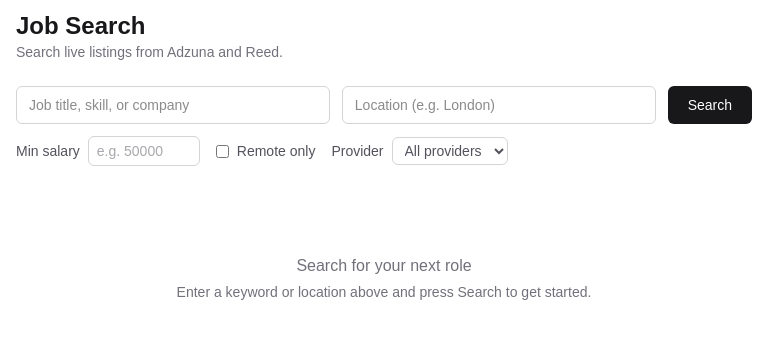
Test: JobSearchScreen › searches, shows loading, then renders results
Type "engineer" into the field with placeholder "Job title, skill, or company" at (173, 105), box left=16, top=86, right=330, bottom=124
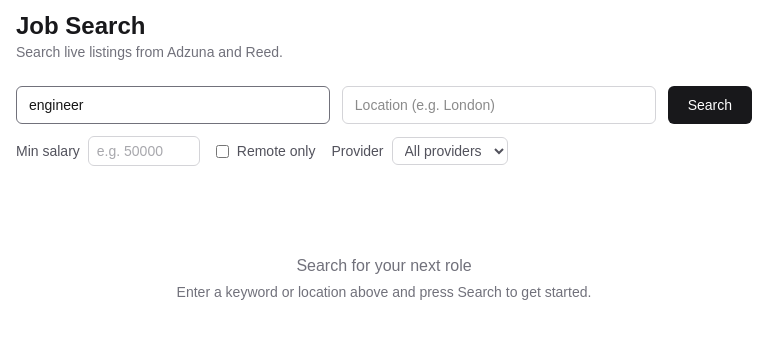
Click the button "Search" at (710, 105), box left=668, top=86, right=752, bottom=124
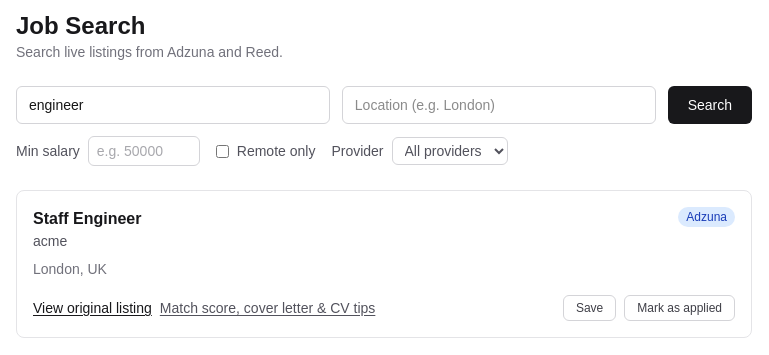
Now the heading "Staff Engineer" is shown, box left=33, top=207, right=142, bottom=231
